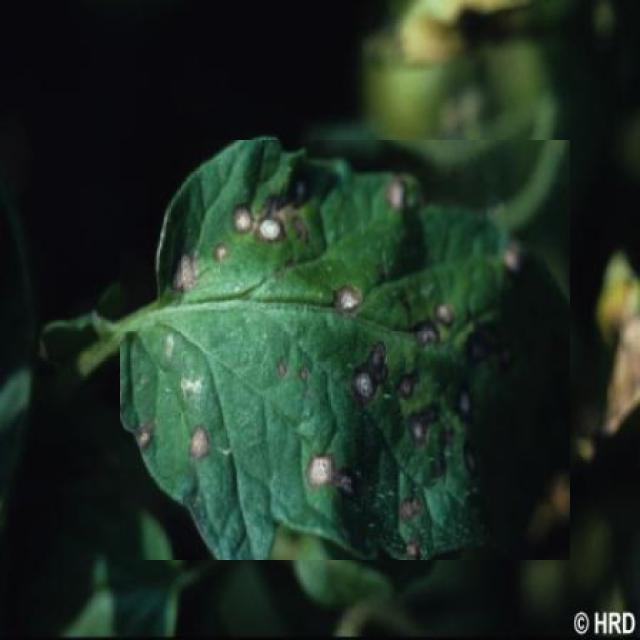Septoria: (120, 140, 570, 560)
